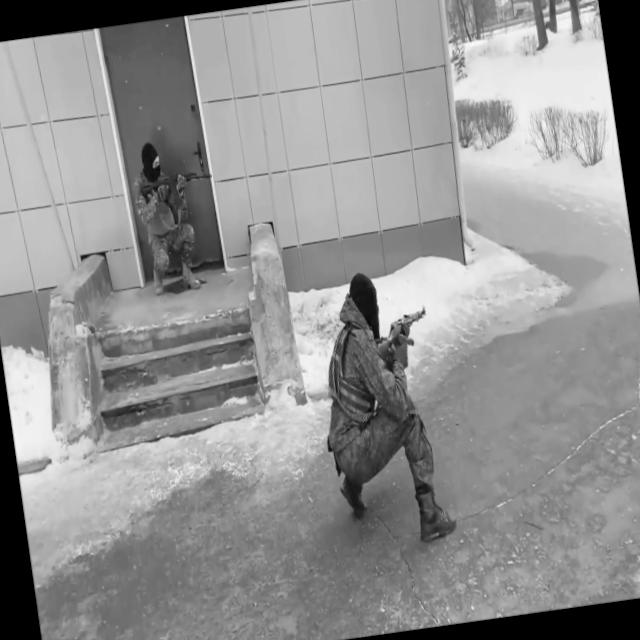gun: (370, 302, 435, 366), (138, 163, 216, 215)
person: (304, 264, 460, 552), (127, 135, 205, 298)
person with a gun: (304, 262, 460, 554), (128, 130, 229, 298)
